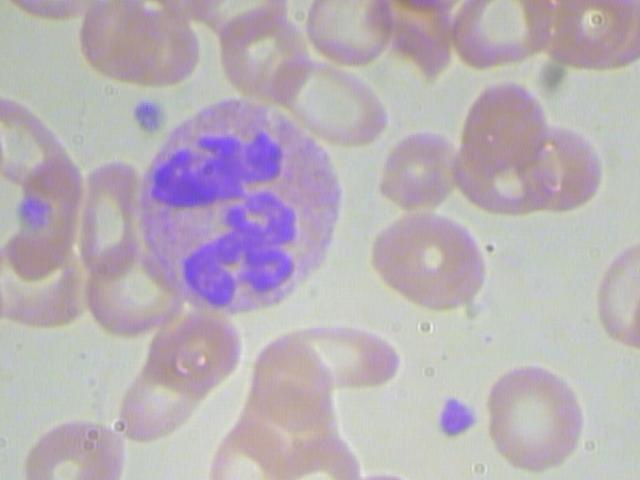RBC: (480, 357, 601, 472), (370, 202, 491, 317), (265, 51, 390, 151), (253, 321, 415, 388), (240, 329, 341, 422), (85, 258, 182, 347), (221, 19, 316, 108), (376, 124, 466, 206), (459, 79, 549, 161), (75, 160, 139, 274), (72, 1, 157, 79)
